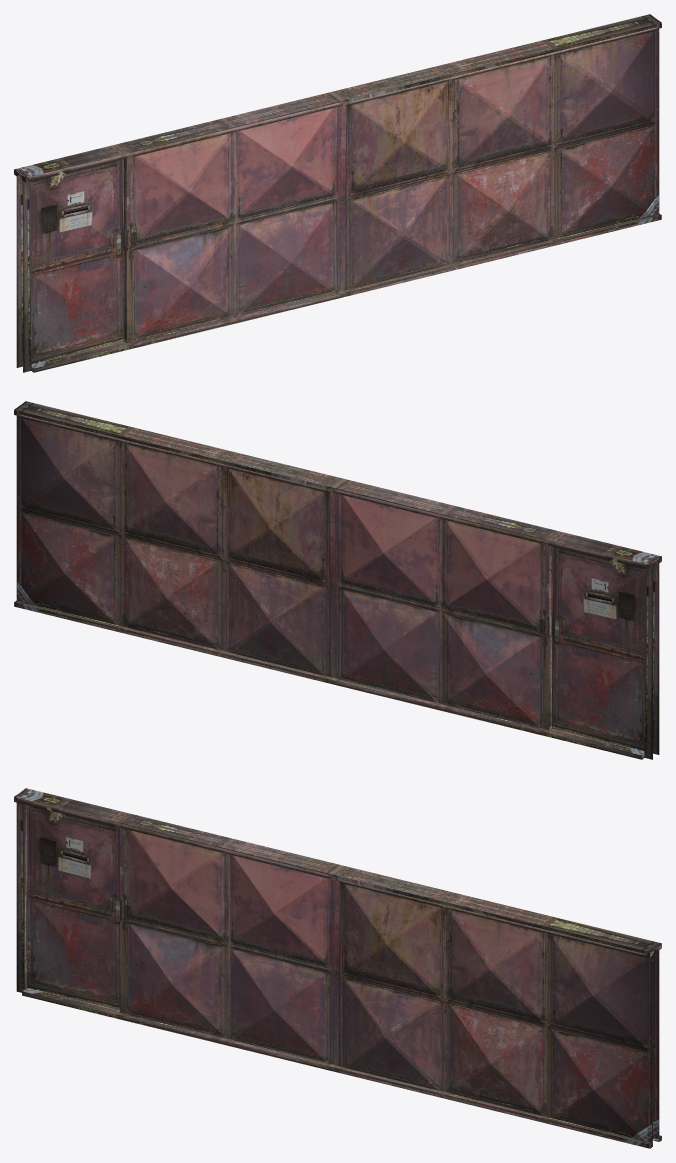
Rendered from Gate01.FBX.
The picture shows the model from 3 angles, top to bottom: view 1: azimuth 30°, elevation 25°; view 2: azimuth 150°, elevation 25°; view 3: azimuth 330°, elevation 25°; orthographic projection.
Visible parts, largest first — view 1: Pyramid001; view 2: Pyramid001; view 3: Pyramid001.
Boxes of the visible parts, box(x1,y1,x2,y2) form: Pyramid001: box(14, 14, 661, 372); Pyramid001: box(14, 401, 661, 759); Pyramid001: box(14, 788, 661, 1148).
Size of the model in its own units: 121 by 35.69 by 5.8.
1 material, 1 textured.
